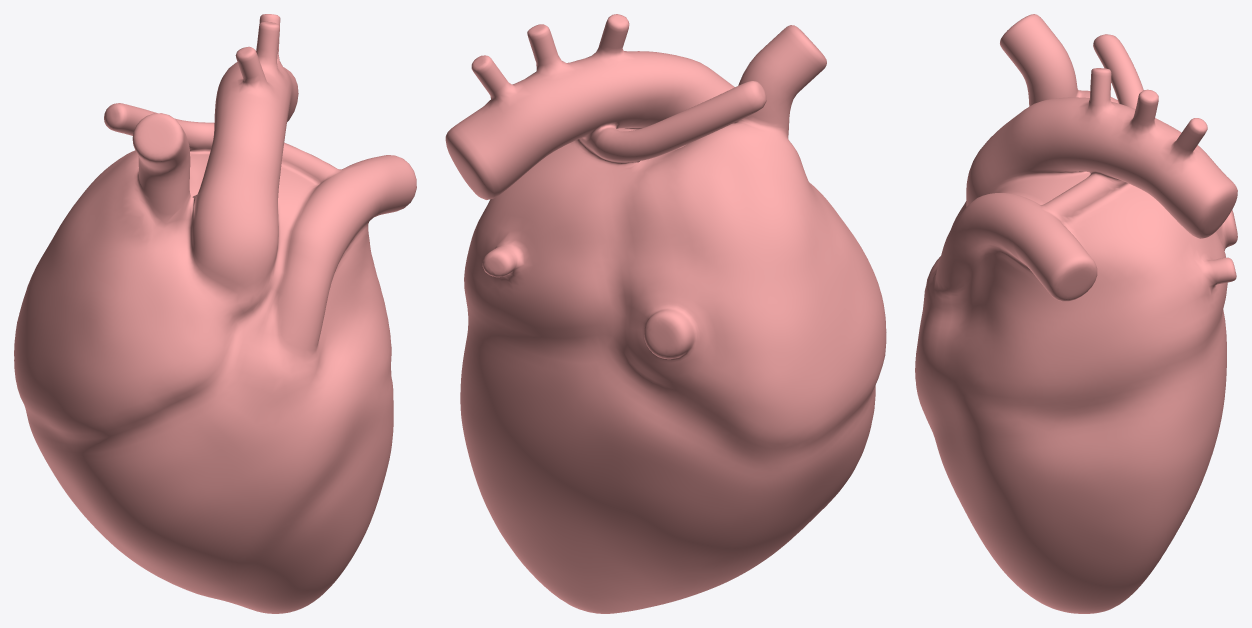
File: heart.glb
The picture shows the model from 3 angles, left to right: view 1: azimuth 30°, elevation 25°; view 2: azimuth 150°, elevation 25°; view 3: azimuth 270°, elevation 25°; orthographic projection. The views are drawn at different scales.
Parts seen in each view (by area): view 1: hart:ZBrush_defualt_group; view 2: hart:ZBrush_defualt_group; view 3: hart:ZBrush_defualt_group.
Part boxes in pixels (<box>): hart:ZBrush_defualt_group: <box>14,14,416,613</box>; hart:ZBrush_defualt_group: <box>445,14,886,613</box>; hart:ZBrush_defualt_group: <box>915,14,1237,613</box>.
Size of the model in its own units: 6.22 by 9.19 by 5.05.
